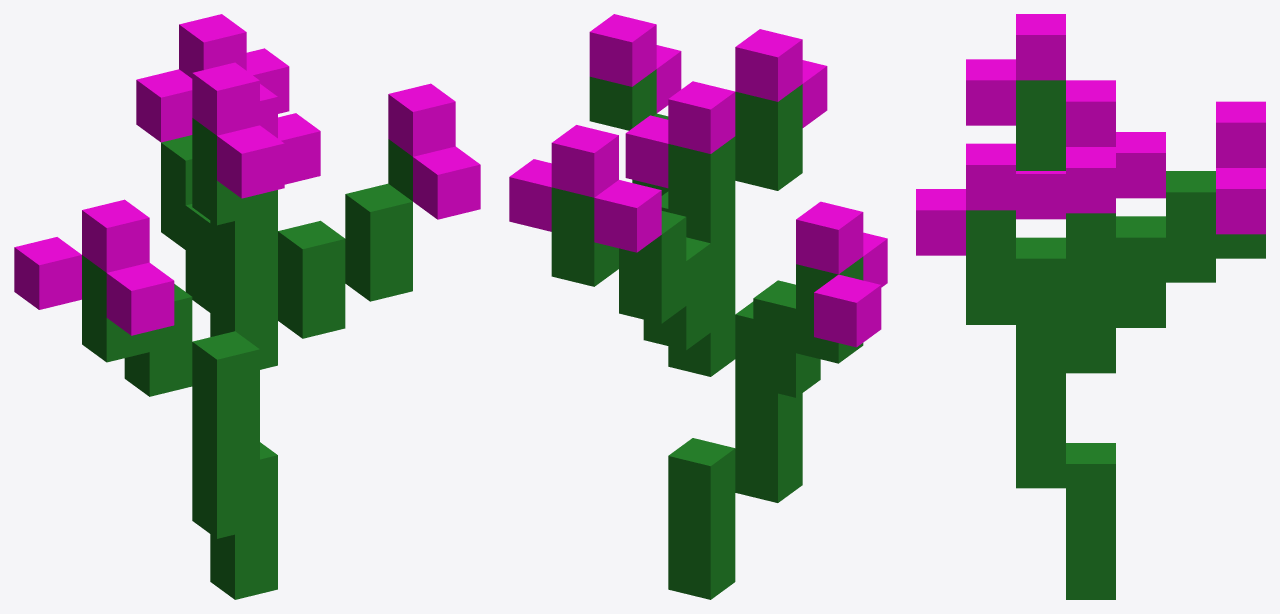
Rendered from Flower01-0.obj.
The picture shows the model from 3 angles, left to right: view 1: azimuth 30°, elevation 25°; view 2: azimuth 150°, elevation 25°; view 3: azimuth 270°, elevation 25°; orthographic projection.
Size of the model in its own units: 0.8 by 1.2 by 0.7.
1 material, 1 textured.
